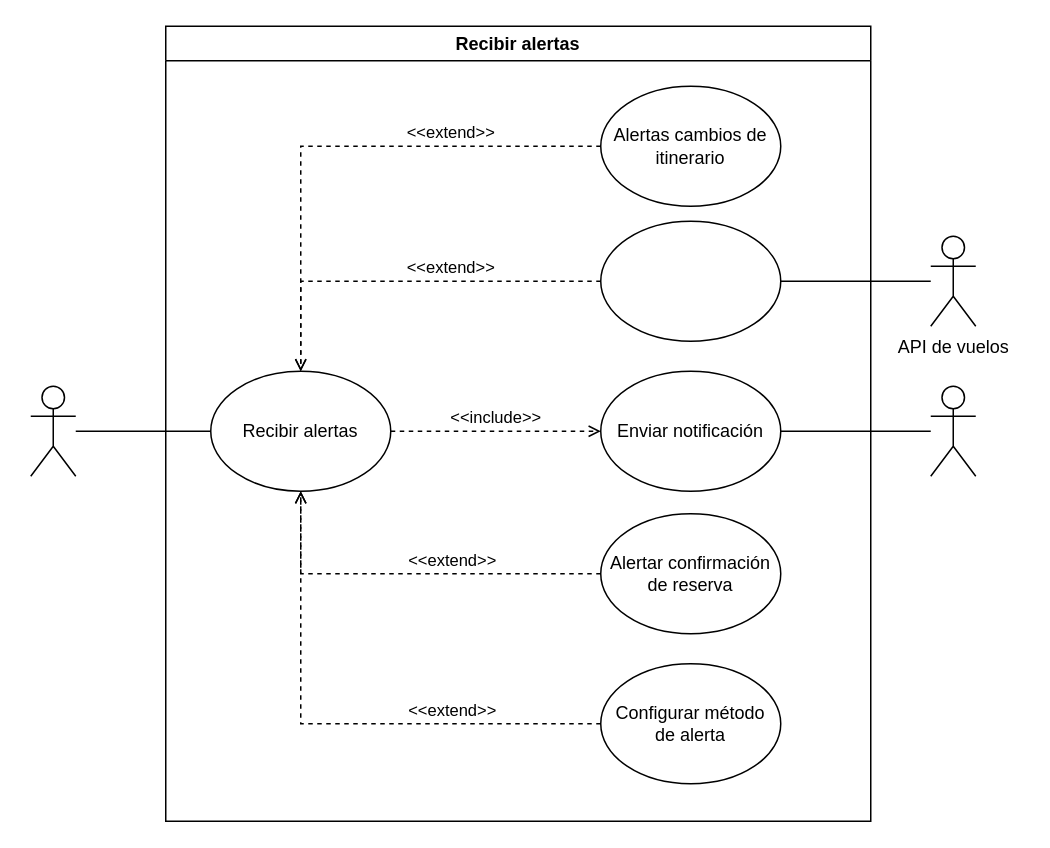
The diagram is 1050 pixels wide and 848 high, and some of its shapes have lost their labels. Here are the shapes that lost their labels. From the top down, the centre of each, then its label:
[690,280]: Alertar cambios de vuelos
[52,430]: Viajero
[952,430]: API notificaciones
